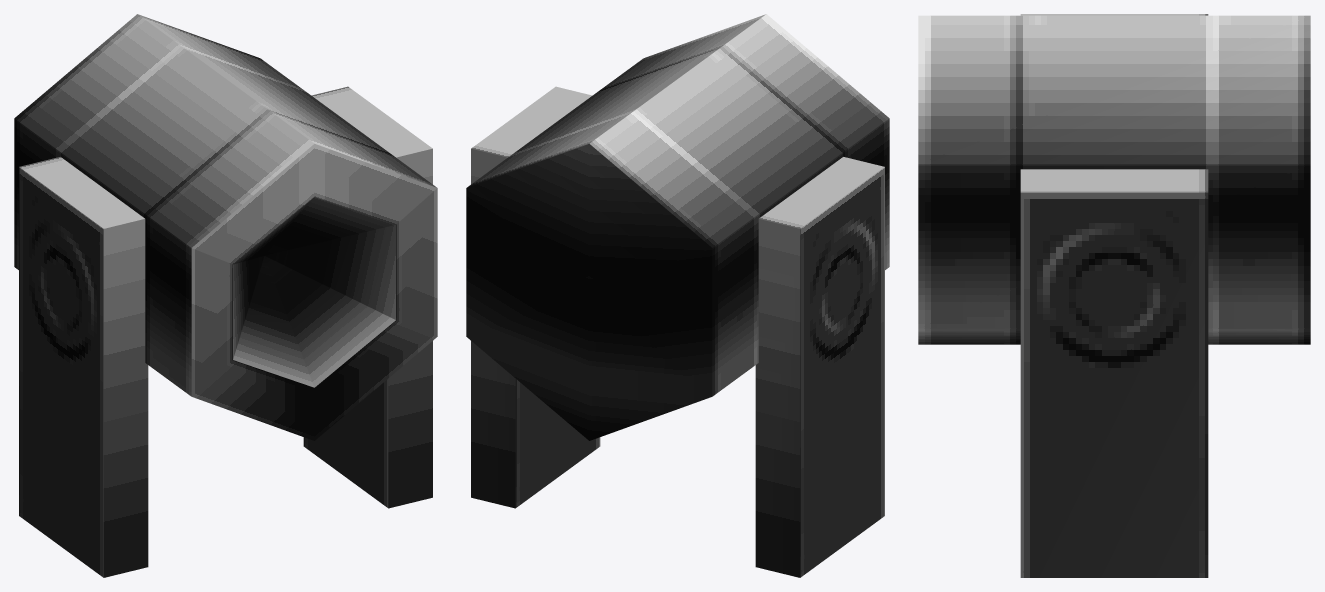
The model's file is airship_course-NsKiller1.glb.
The picture shows the model from 3 angles, left to right: view 1: azimuth 30°, elevation 25°; view 2: azimuth 150°, elevation 25°; view 3: azimuth 270°, elevation 25°; orthographic projection. The views are drawn at different scales.
Parts seen in each view (by area): view 1: NsKiller1; view 2: NsKiller1; view 3: NsKiller1.
Part boxes in pixels (x1=…): NsKiller1: x1=14, y1=14, x2=437, y2=577; NsKiller1: x1=466, y1=14, x2=889, y2=577; NsKiller1: x1=918, y1=14, x2=1310, y2=577.
Bounding box in the file's own units: 4.62 × 5.75 × 4.31.
Materials: 1 (1 with a texture image).
